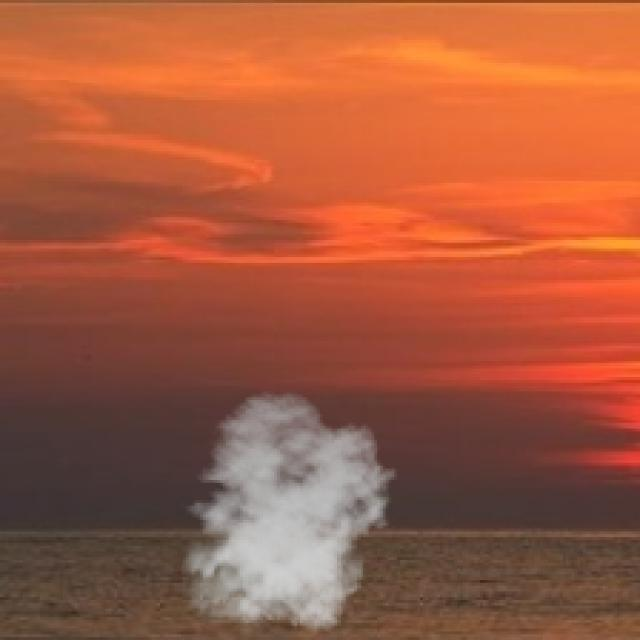Smoke: (171, 392, 400, 637)
